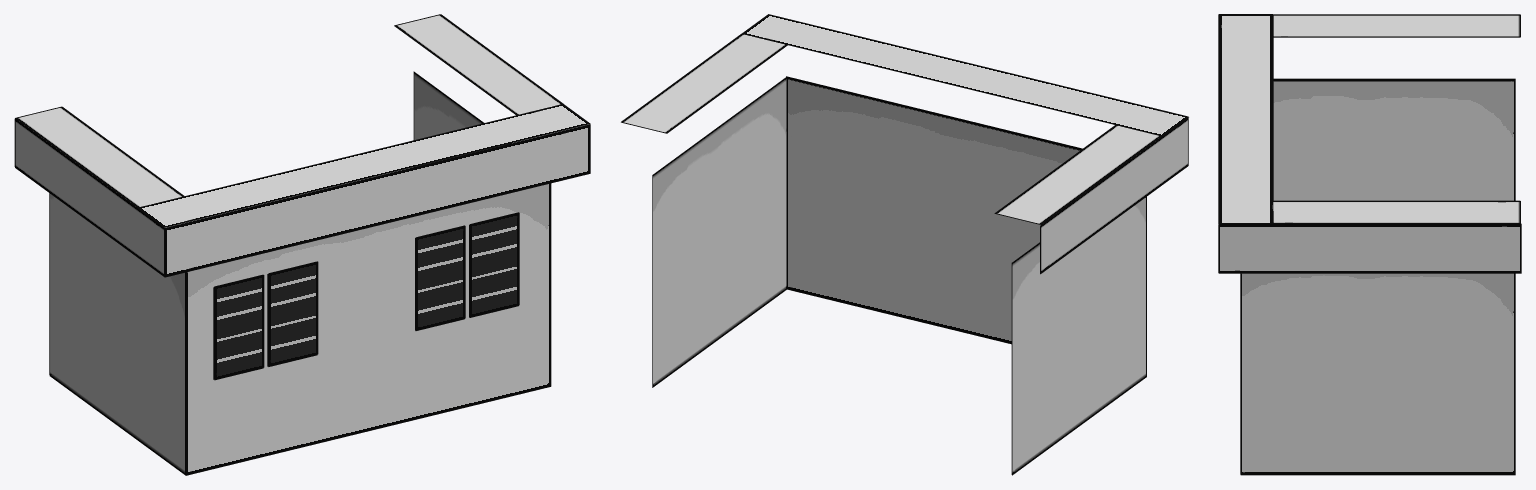
File: Middle Stairwall.gltf
The picture shows the model from 3 angles, left to right: view 1: azimuth 30°, elevation 25°; view 2: azimuth 150°, elevation 25°; view 3: azimuth 270°, elevation 25°; orthographic projection. The views are drawn at different scales.
Visible parts, largest first — view 1: default; view 2: default; view 3: default.
Boxes of the visible parts, x1,y1,x2,y2 form: default: [14, 14, 590, 475]; default: [621, 14, 1188, 475]; default: [1218, 14, 1521, 475].
Size of the model in its own units: 36.6 by 21.59 by 22.34.
Materials: 1 (1 with a texture image).
